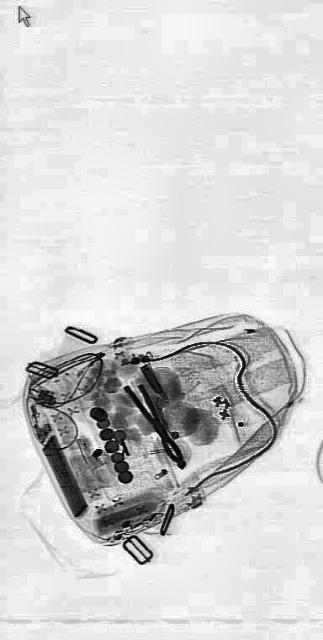Pliers: (122, 366, 186, 479)
